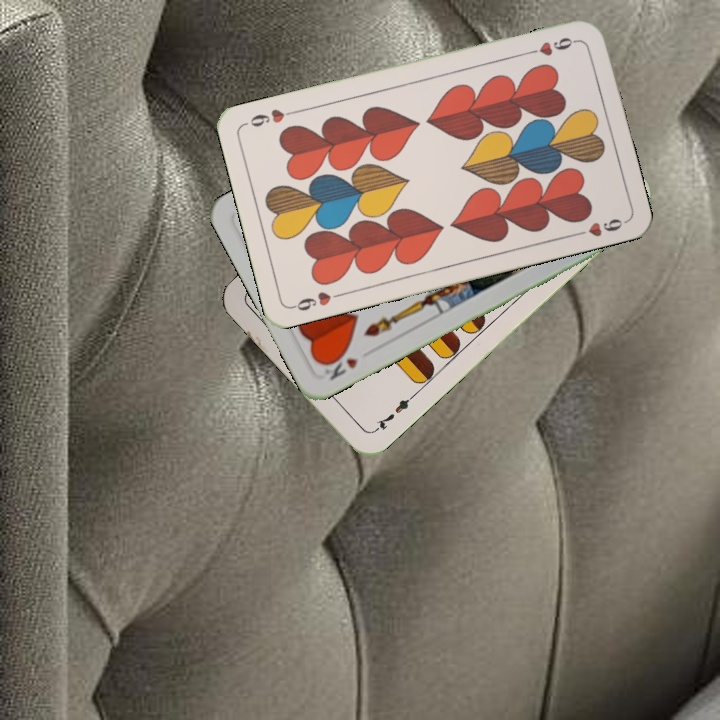E7: (369, 391, 417, 435)
H9: (288, 287, 346, 314), (522, 33, 581, 59)
HK: (319, 348, 361, 383)
